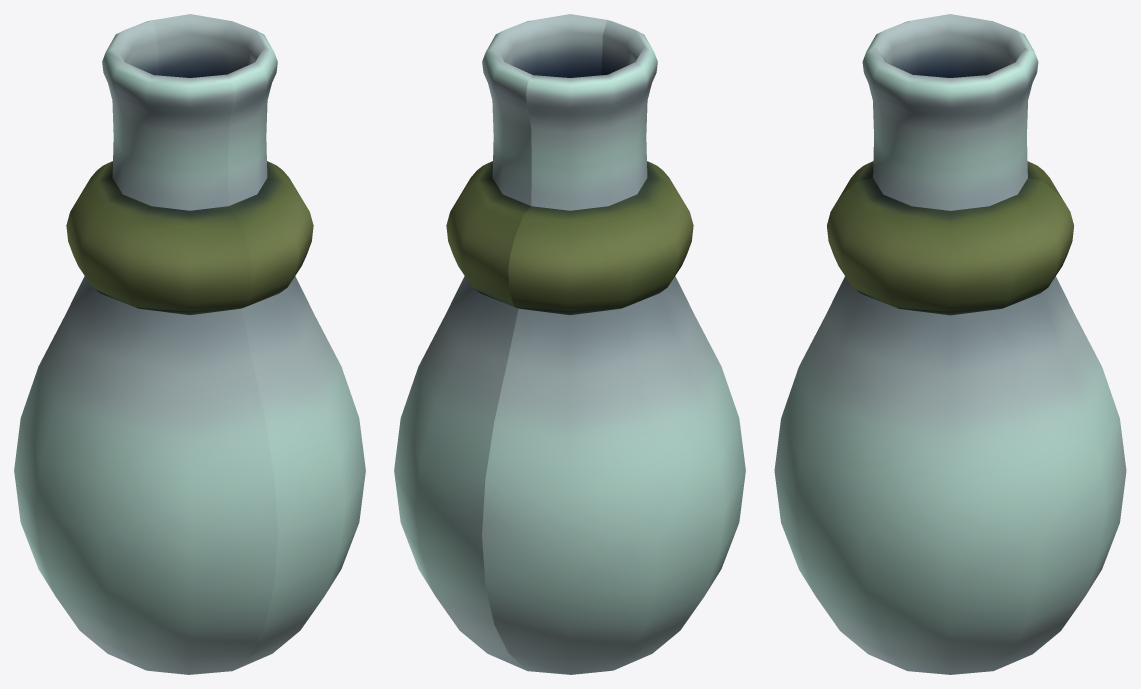
The model's file is mulchantbottle.fbx.
The picture shows the model from 3 angles, left to right: view 1: azimuth 30°, elevation 25°; view 2: azimuth 150°, elevation 25°; view 3: azimuth 270°, elevation 25°; orthographic projection.
Parts seen in each view (by area): view 1: MulchantBottle; view 2: MulchantBottle; view 3: MulchantBottle.
Boxes of the visible parts, <box> form: MulchantBottle: <box>14,14,365,674</box>; MulchantBottle: <box>394,14,745,674</box>; MulchantBottle: <box>774,14,1126,674</box>.
Bounding box in the file's own units: 77.65 × 147 × 76.32.
Materials: 1 (1 with a texture image).
